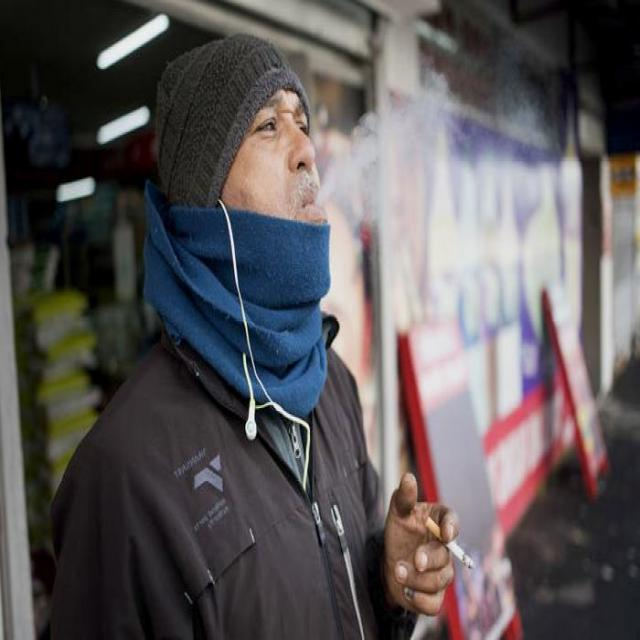cigarette: (420, 508, 478, 577)
